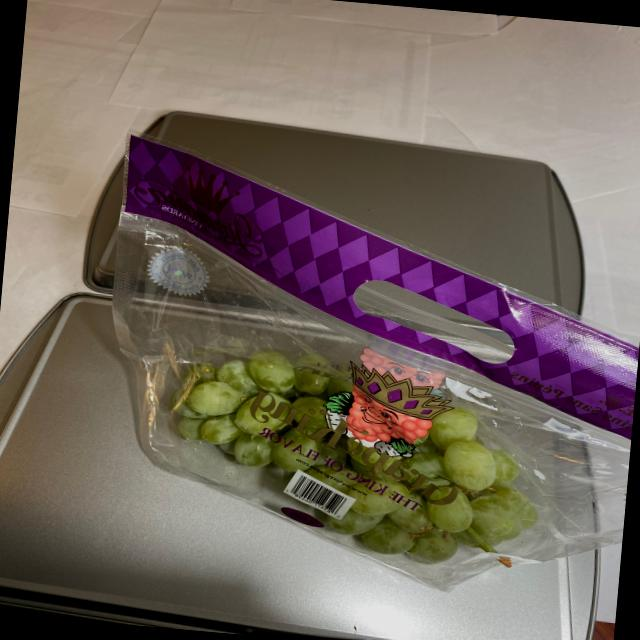grapes: (132, 334, 532, 574)
